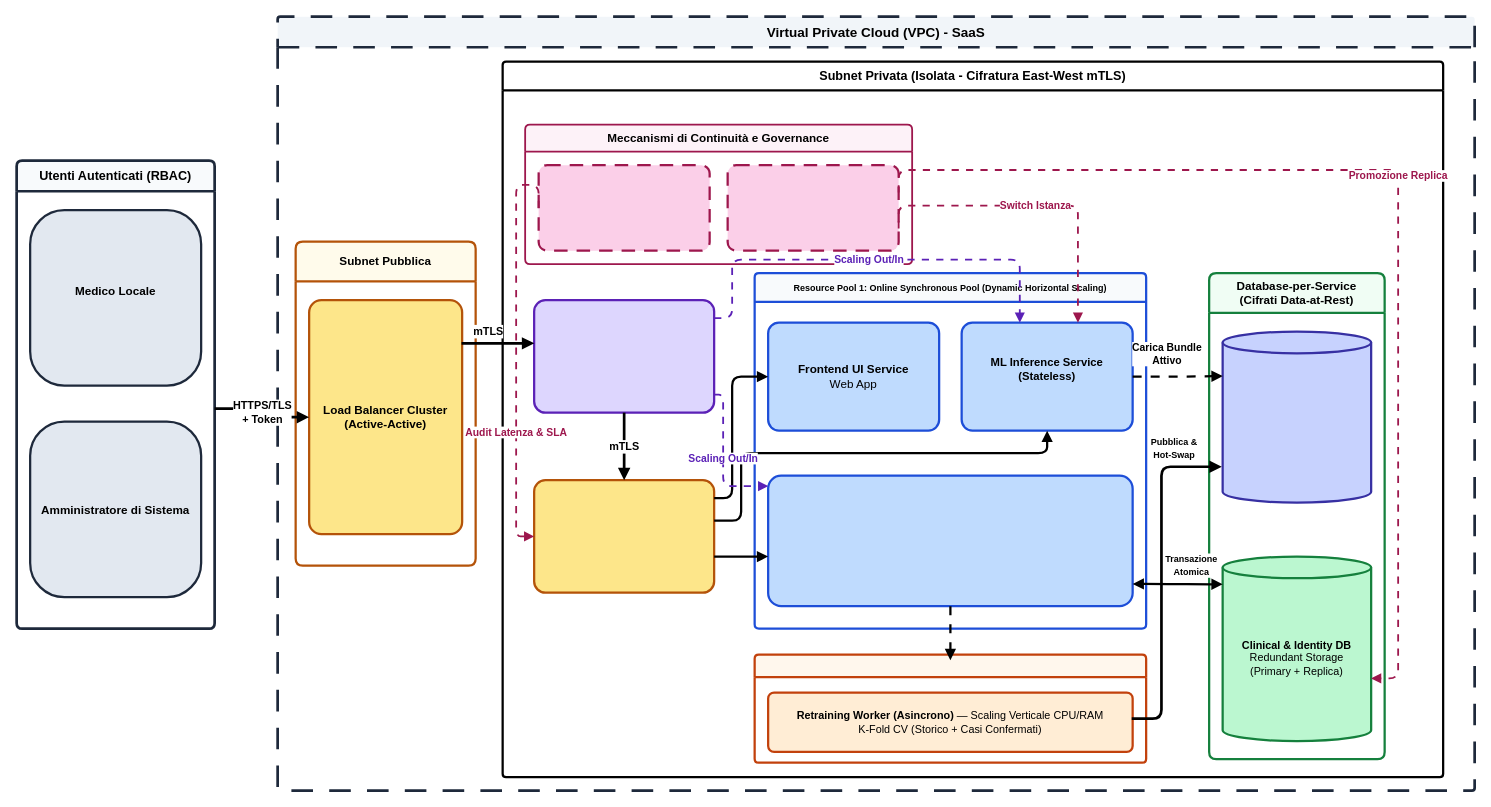
This 1491x807 diagram has some shape labels left out. Each missing label, with the box of its shape:
API Gateway Single Entry Point, Routing & Validazione Token: (533, 479, 715, 593)
Automated Scaling Listener (ASL): (533, 299, 715, 413)
Clinical Core & Auth Service: (767, 474, 1133, 607)
Failover System Switchover ≤ 3 min | Uptime ≥ 99.5%: (726, 164, 899, 251)
Model Registry Bundle Versionati Sola Lettura / Hot-Swap: (1221, 330, 1372, 503)
Resource Pool 2: Batch Asynchronous Pool (Elastic Resource Capacity): (753, 653, 1147, 763)
SLA Monitor Latenza ≤ 1s | Governance Modello: (537, 164, 710, 251)
